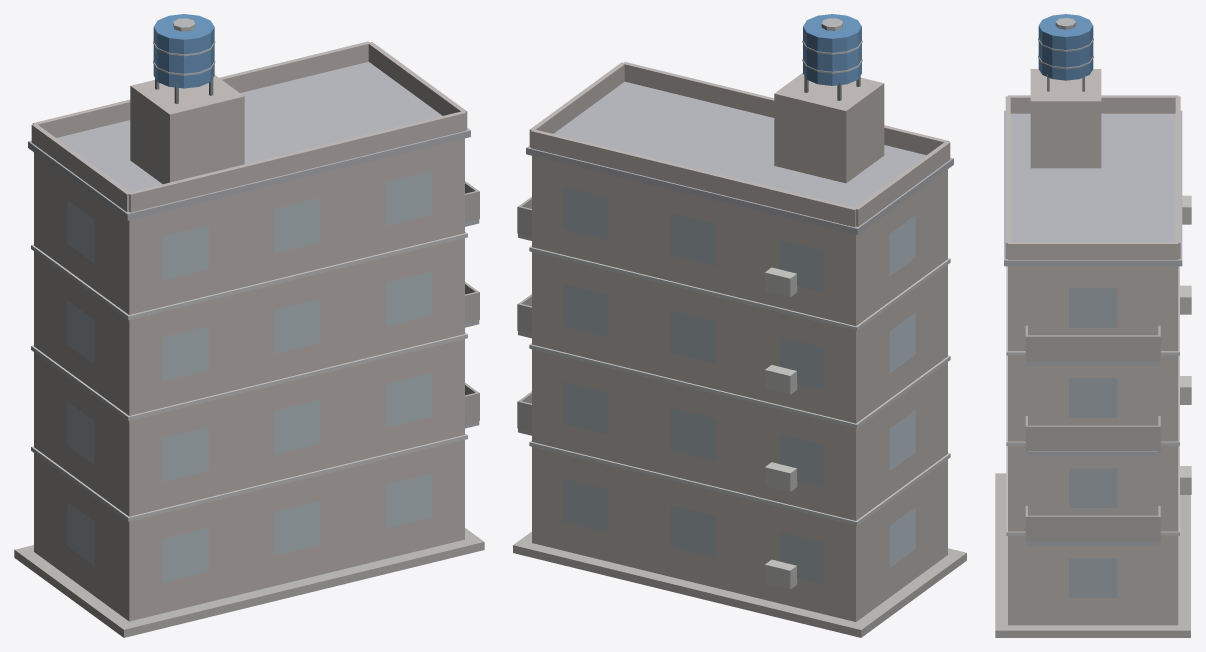
Rendered from 07_residential_low-03.glb.
The picture shows the model from 3 angles, left to right: view 1: azimuth 30°, elevation 25°; view 2: azimuth 150°, elevation 25°; view 3: azimuth 270°, elevation 25°; orthographic projection. The views are drawn at different scales.
Size of the model in its own units: 12 by 17.27 by 6.12.
